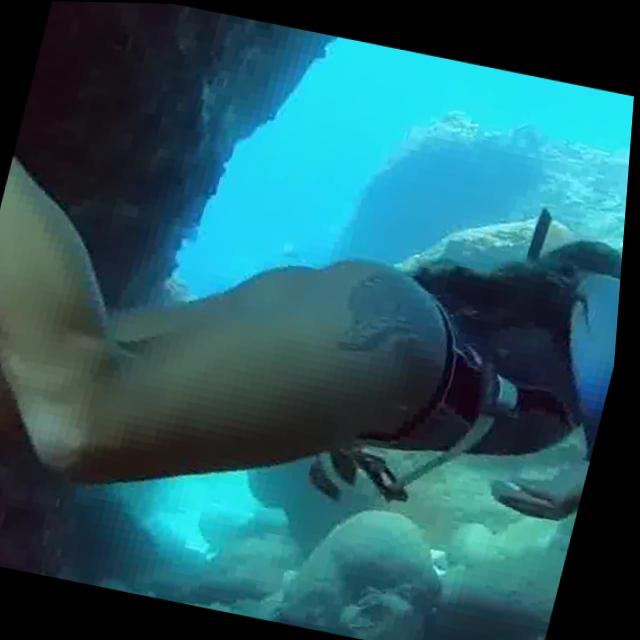human: (0, 0, 640, 586)
